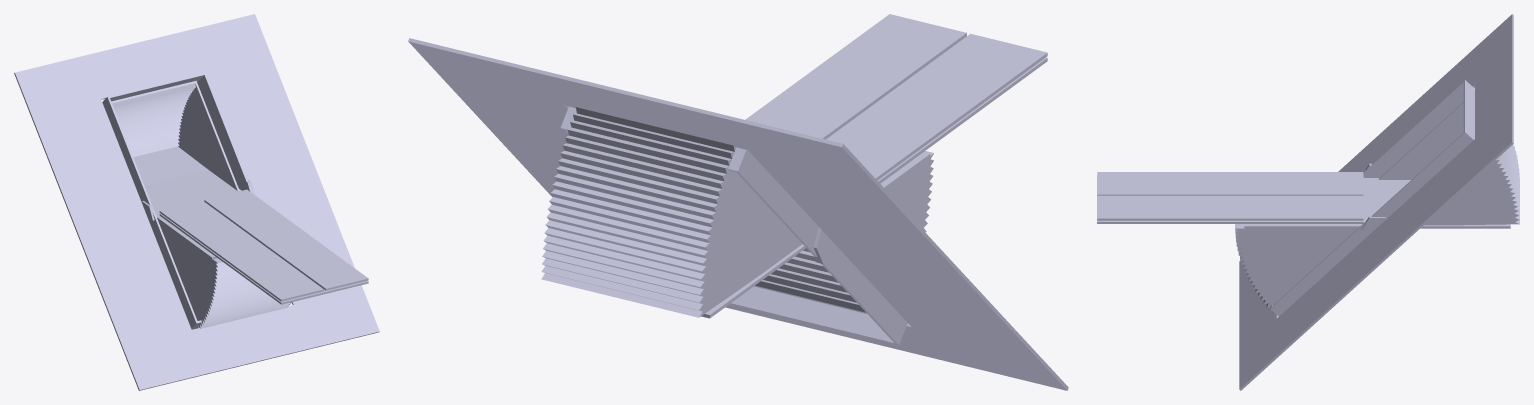
Rendered from LSPan01.glb.
The picture shows the model from 3 angles, left to right: view 1: azimuth 30°, elevation 25°; view 2: azimuth 150°, elevation 25°; view 3: azimuth 270°, elevation 25°; orthographic projection. The views are drawn at different scales.
Visible parts, largest first — view 1: copy_Body021, copy_LinkGroup004, copy_Body022, copy_Body023, copy_Body, copy_LinkGroup003; view 2: copy_Body021, copy_Body022, copy_LinkGroup004, copy_Body, copy_Body023, copy_LinkGroup003, copy_Body002; view 3: copy_Body021, copy_LinkGroup004, copy_Body022, copy_Body, copy_Body023, copy_LinkGroup003.
Boxes of the visible parts, <box> form: copy_Body021: <box>14,14,379,390</box>; copy_LinkGroup004: <box>159,189,368,304</box>; copy_Body022: <box>111,80,239,191</box>; copy_Body023: <box>158,220,290,328</box>; copy_Body: <box>102,72,291,329</box>; copy_LinkGroup003: <box>144,169,241,259</box>; copy_Body021: <box>408,38,1068,390</box>; copy_Body022: <box>541,107,802,317</box>; copy_LinkGroup004: <box>745,14,1047,183</box>; copy_Body: <box>560,106,907,345</box>; copy_Body023: <box>754,151,933,313</box>; copy_LinkGroup003: <box>701,152,929,318</box>; copy_Body002: <box>813,227,837,263</box>; copy_Body021: <box>1239,14,1513,390</box>; copy_LinkGroup004: <box>1097,172,1363,223</box>; copy_Body022: <box>1378,102,1519,225</box>; copy_Body: <box>1270,80,1474,316</box>; copy_Body023: <box>1235,224,1357,314</box>; copy_LinkGroup003: <box>1244,178,1510,228</box>.
Size of the model in its own units: 1.68 by 1.52 by 2.34.
